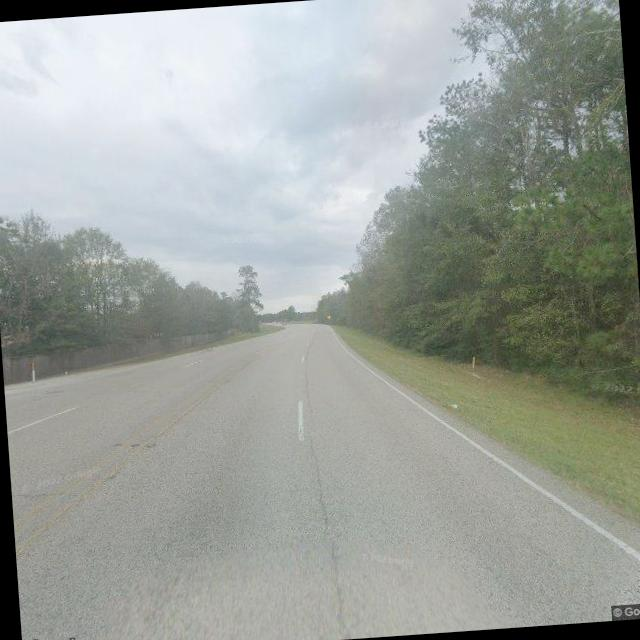crack: (301, 429, 354, 639)
